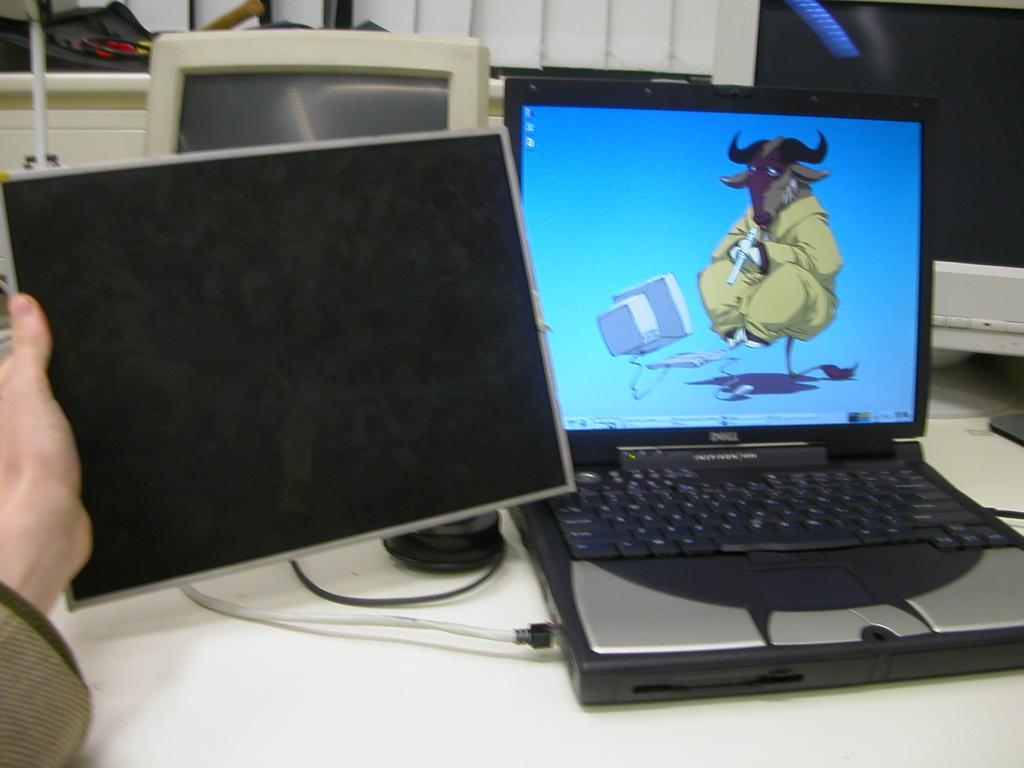Laptop: (503, 72, 1023, 705)
